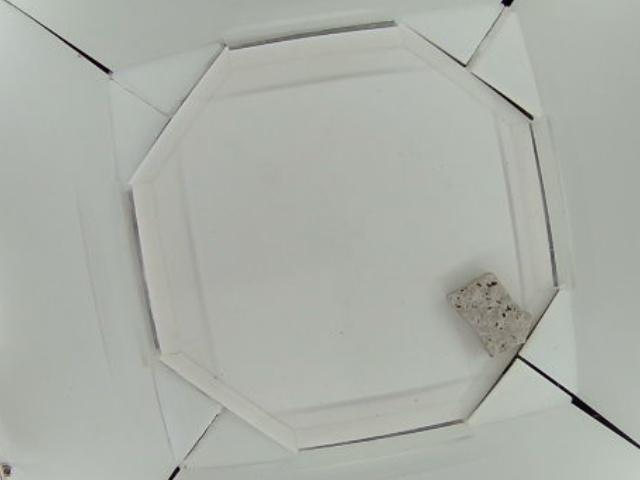China: (449, 272, 534, 355)
